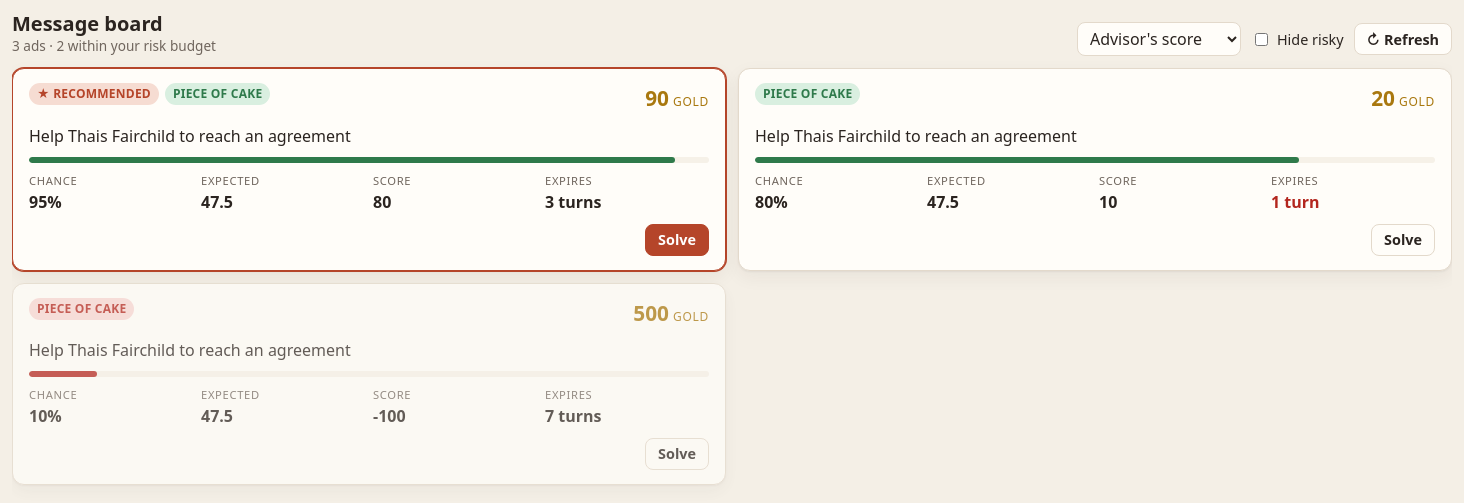
Scenario: AdBoard › can hide ads outside the risk budget
Click the checkbox labelled "Hide risky". click: (1261, 39)
box: [1255, 33, 1268, 46]
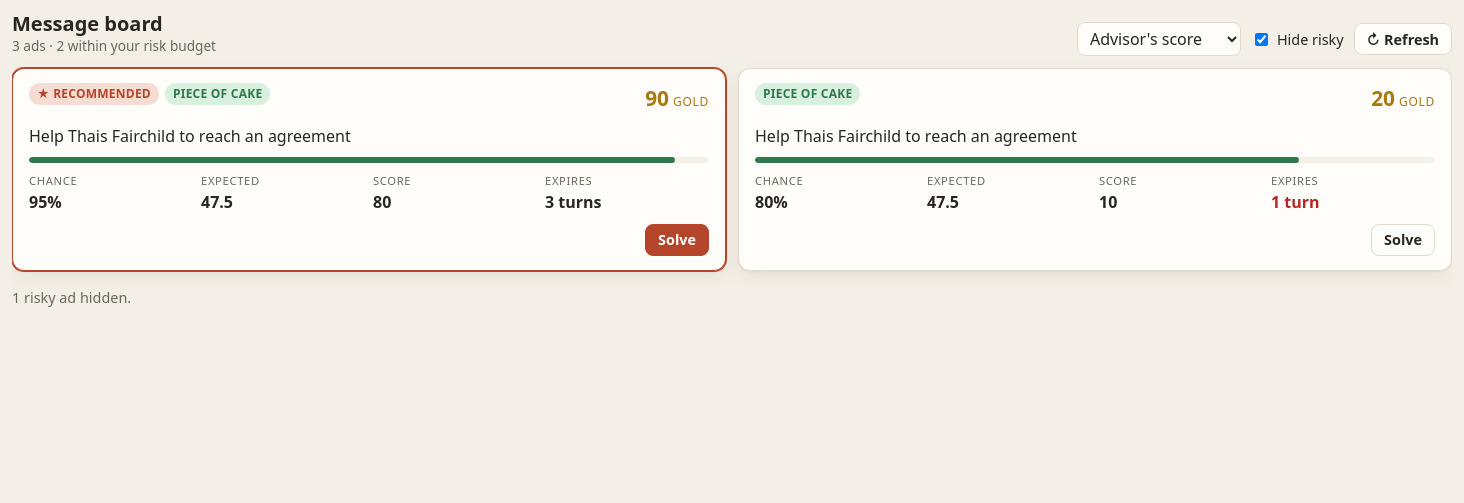
Now the text "1 risky ad hidden" is shown, box [12, 288, 131, 307]
